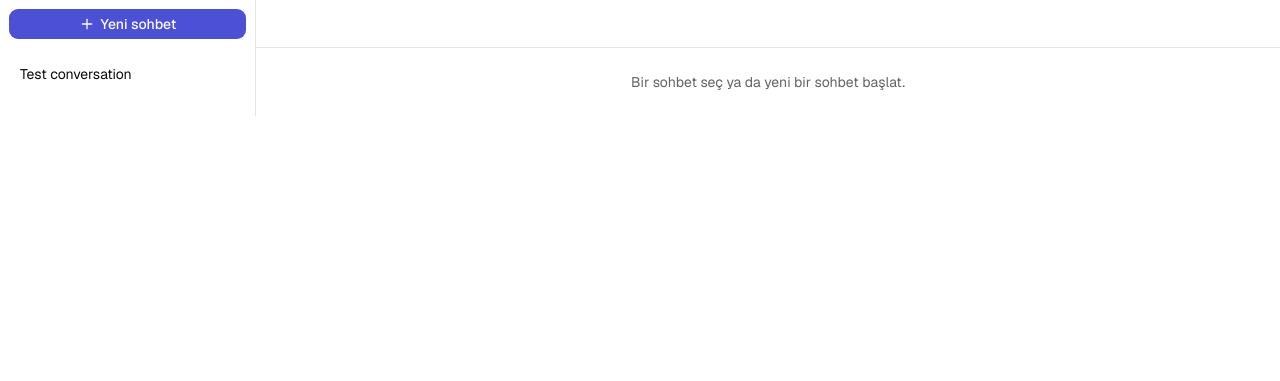
Test: ChatView › renders assistant replies as markdown, streaming-safe: an unclosed fence is code until closed
Click the button "Test conversation" at point(128, 74), box [8,56,247,92]
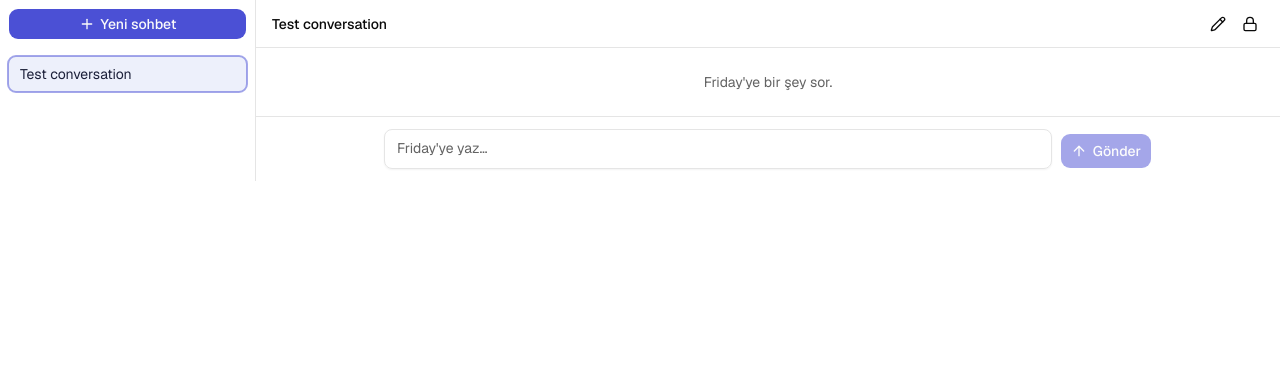
Expected: the text box with placeholder "Friday'ye yaz…" is shown
Type "kod yaz" into the text box with placeholder "Friday'ye yaz…" at point(718, 149), box [384,129,1052,169]
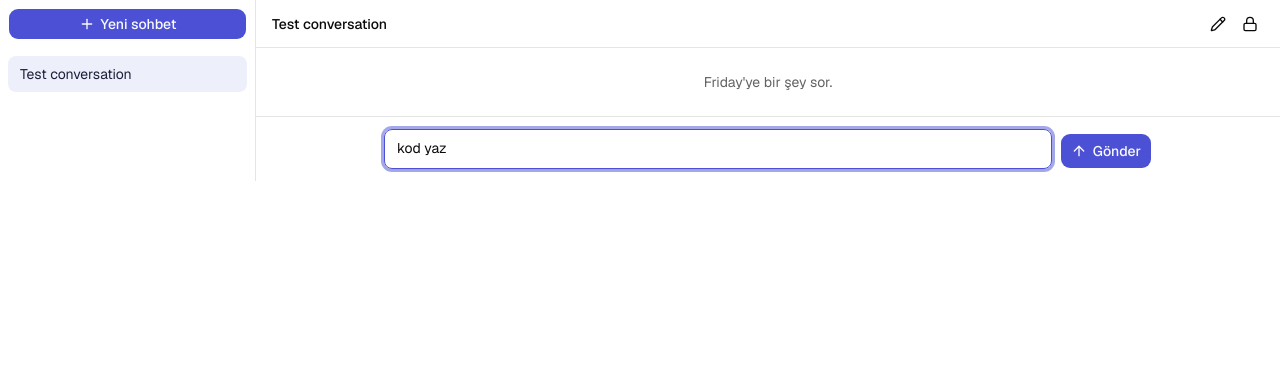
Click the button "Gönder" at point(1106, 151), box [1060,133,1152,169]
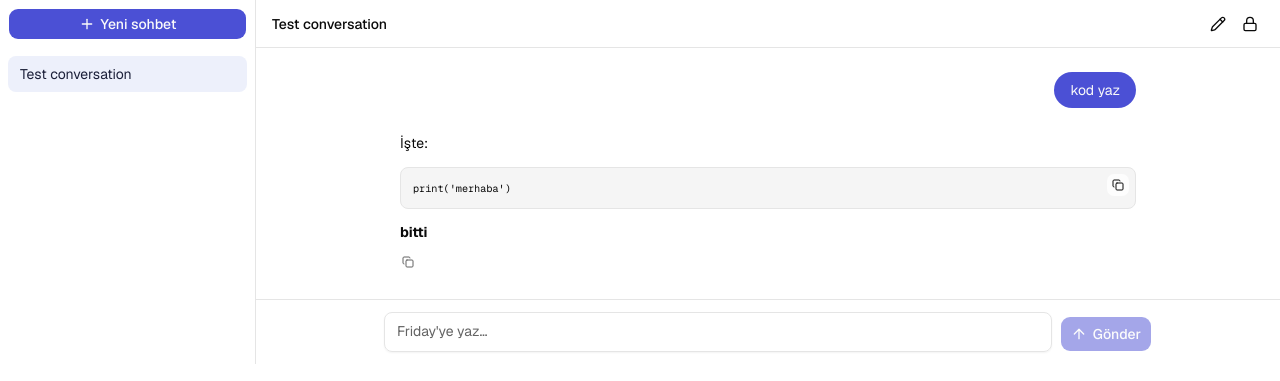
Expected: the text "print('merhaba')" is shown, [413,182,511,195]
Expected: the text "bitti" is shown, [400,223,427,241]
